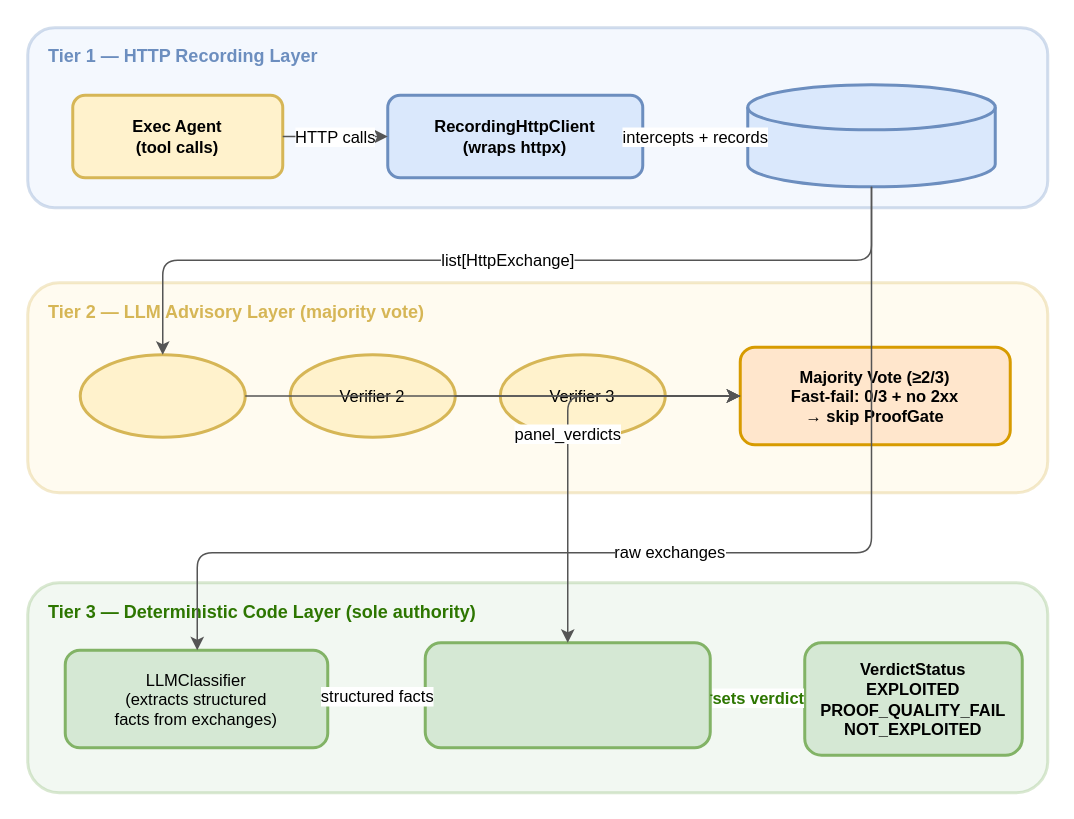
Some shapes in this 1074 by 819 pixel diagram are drawn without their labels. Here are the shapes that lost their labels. From the top down, the centre of each, then its label:
point (871, 135): HttpExchange Store (req + resp pairs)
point (162, 395): Verifier 1
point (567, 694): ProofGate (pattern-specific rules) AI cannot override
